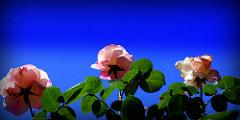Rose: (1, 63, 53, 114), (88, 39, 138, 82), (169, 55, 222, 89)
